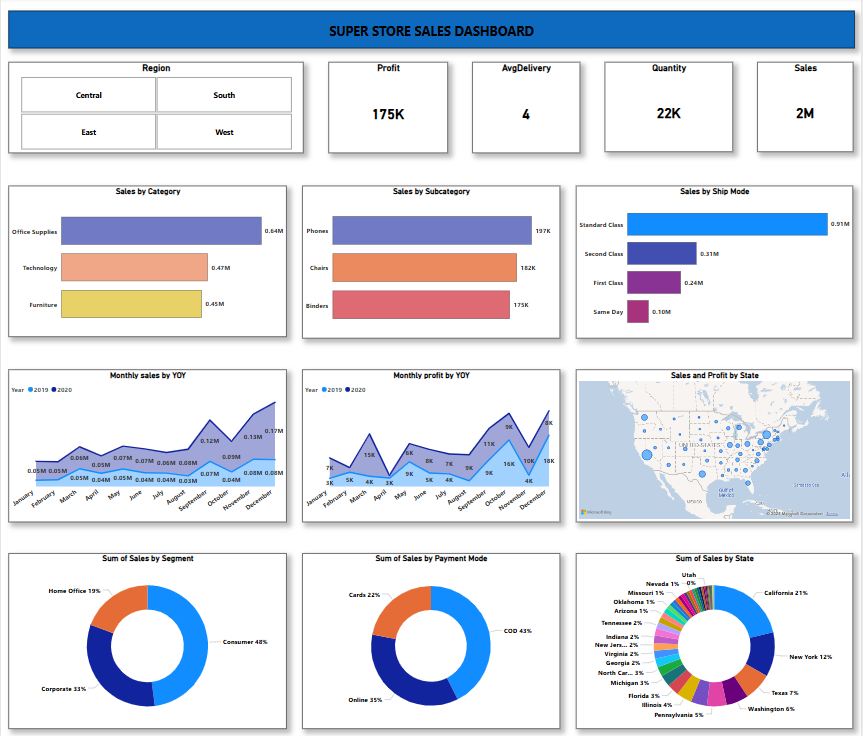

This screenshot's page, from the dashboard's own definition file:
{"tool":"powerbi","page":{"name":"Sales Insights","canvas":[1800,1560],"ordinal":0},"visuals":[{"type":"textbox","box":[15.2,28.8,1769.6,78.4],"z":0},{"type":"clusteredBarChart","title":"Sales by Category","fields":{"Category":["SuperStore_Sales_Dataset.Category"],"Y":["Sum(SuperStore_Sales_Dataset.Sales)"]},"box":[16.1,394.1,581.8,316.4],"z":0,"group":"g2"},{"type":"group","id":"g1","title":"Group 1","box":[16.8,136.7,1766.3,191.1],"z":1000},{"type":"clusteredBarChart","title":"Sales by Subcategory","fields":{"Y":["Sum(SuperStore_Sales_Dataset.Sales)"],"Category":["SuperStore_Sales_Dataset.Sub-Category"]},"box":[631.4,394.1,538.9,319],"z":1000,"group":"g2"},{"type":"group","id":"g2","title":"Group 2","box":[16.1,394.1,1766.8,319],"z":2000},{"type":"clusteredBarChart","title":"Sales by Ship Mode","fields":{"Y":["Sum(SuperStore_Sales_Dataset.Sales)"],"Category":["SuperStore_Sales_Dataset.Ship Mode"]},"box":[1203.8,394.1,579.1,319],"z":2000,"group":"g2"},{"type":"group","id":"g3","title":"Group 3","box":[16.1,780.2,1766.8,319],"z":3000},{"type":"stackedAreaChart","title":"Monthly sales by YOY","fields":{"Category":["SuperStore_Sales_Dataset.Order Date.Variation.Date Hierarchy.Month","SuperStore_Sales_Dataset.Order Date.Variation.Date Hierarchy.Day"],"Y":["Sum(SuperStore_Sales_Dataset.Sales)"],"Series":["SuperStore_Sales_Dataset.Order Date.Variation.Date Hierarchy.Year"]},"box":[16.1,780.2,581.8,319],"z":3000,"group":"g3"},{"type":"stackedAreaChart","title":"Monthly profit by YOY","fields":{"Category":["SuperStore_Sales_Dataset.Order Date.Variation.Date Hierarchy.Month","SuperStore_Sales_Dataset.Order Date.Variation.Date Hierarchy.Day"],"Series":["SuperStore_Sales_Dataset.Order Date.Variation.Date Hierarchy.Year"],"Y":["Sum(SuperStore_Sales_Dataset.Profit)"]},"box":[631.4,780.2,538.9,319],"z":4000,"group":"g3"},{"type":"group","id":"g4","title":"Group 4","box":[16.1,1163.5,1766.8,367.3],"z":4000},{"type":"map","title":"Sales and Profit by State","fields":{"Category":["SuperStore_Sales_Dataset.State"],"Size":["Sum(SuperStore_Sales_Dataset.Sales)"]},"box":[1203.8,780.2,579.1,319],"z":5000,"group":"g3"},{"type":"donutChart","fields":{"Category":["SuperStore_Sales_Dataset.Segment"],"Y":["Sum(SuperStore_Sales_Dataset.Sales)"]},"box":[16.1,1163.5,581.8,367.3],"z":6000,"group":"g4"},{"type":"donutChart","fields":{"Y":["Sum(SuperStore_Sales_Dataset.Sales)"],"Category":["SuperStore_Sales_Dataset.Payment Mode"]},"box":[631.4,1163.5,538.9,367.3],"z":7000,"group":"g4"},{"type":"slicer","title":"Region","fields":{"Values":["SuperStore_Sales_Dataset.Region"]},"box":[16.8,136.7,616.6,190.3],"z":8000,"group":"g1"},{"type":"card","title":"Sales","fields":{"Values":["Sum(SuperStore_Sales_Dataset.Sales)"]},"box":[1582,137.4,201.1,187.7],"z":10000,"group":"g1"},{"type":"card","title":"Quantity","fields":{"Values":["Sum(SuperStore_Sales_Dataset.Quantity)"]},"box":[1263,137.4,268.1,187.7],"z":11000,"group":"g1"},{"type":"card","title":"Profit","fields":{"Values":["Sum(SuperStore_Sales_Dataset.Profit)"]},"box":[685.7,136.7,249.3,190.3],"z":12000,"group":"g1"},{"type":"card","title":"AvgDelivery","fields":{"Values":["Avg(SuperStore_Sales_Dataset.AvgDelivery)"]},"box":[986.9,137.4,225.2,190.3],"z":13000,"group":"g1"},{"type":"donutChart","fields":{"Y":["Sum(SuperStore_Sales_Dataset.Sales)"],"Category":["SuperStore_Sales_Dataset.State"]},"box":[1203.8,1163.5,579.1,367.3],"z":13002,"group":"g4"}]}

Visuals, with their boxes in screenshot pixels (x1, y1, x2, y2), scaled from the page's 1800x1560 canvas onto the 863x736 screenshot:
textbox: bbox=(7, 14, 856, 51)
"Sales by Category" clusteredBarChart: bbox=(8, 186, 287, 335)
"Group 1" group: bbox=(8, 64, 855, 155)
"Sales by Subcategory" clusteredBarChart: bbox=(303, 186, 561, 336)
"Group 2" group: bbox=(8, 186, 855, 336)
"Sales by Ship Mode" clusteredBarChart: bbox=(577, 186, 855, 336)
"Group 3" group: bbox=(8, 368, 855, 519)
"Monthly sales by YOY" stackedAreaChart: bbox=(8, 368, 287, 519)
"Monthly profit by YOY" stackedAreaChart: bbox=(303, 368, 561, 519)
"Group 4" group: bbox=(8, 549, 855, 722)
"Sales and Profit by State" map: bbox=(577, 368, 855, 519)
donutChart - SuperStore_Sales_Dataset.Segment x Sum(SuperStore_Sales_Dataset.Sales): bbox=(8, 549, 287, 722)
donutChart - Sum(SuperStore_Sales_Dataset.Sales) x SuperStore_Sales_Dataset.Payment Mode: bbox=(303, 549, 561, 722)
"Region" slicer: bbox=(8, 64, 304, 154)
"Sales" card: bbox=(758, 65, 855, 153)
"Quantity" card: bbox=(606, 65, 734, 153)
"Profit" card: bbox=(329, 64, 448, 154)
"AvgDelivery" card: bbox=(473, 65, 581, 155)
donutChart - Sum(SuperStore_Sales_Dataset.Sales) x SuperStore_Sales_Dataset.State: bbox=(577, 549, 855, 722)
